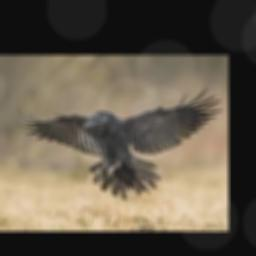Crow: (14, 86, 222, 198)
